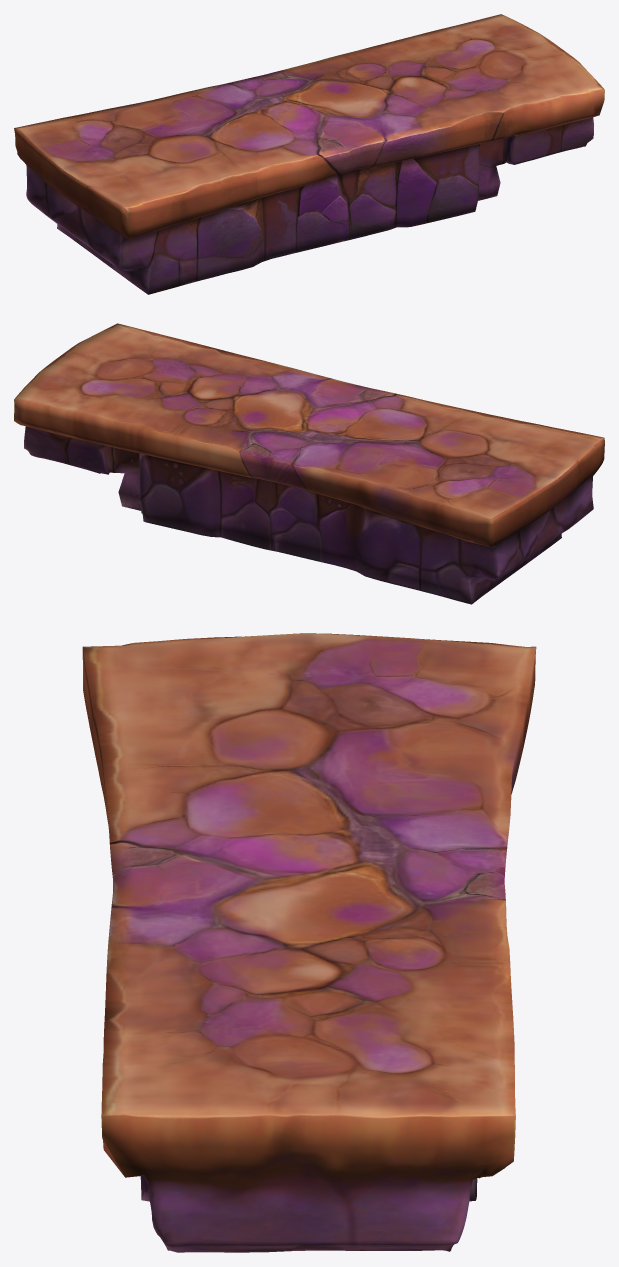
File: Mystic_Stone_Platform_A.fbx
3 views of the same model, one above another, from view 1: azimuth 30°, elevation 25°; view 2: azimuth 150°, elevation 25°; view 3: azimuth 270°, elevation 25° (orthographic). The views are drawn at different scales.
Parts seen in each view (by area): view 1: input; view 2: input; view 3: input.
Part boxes in pixels (x1,y1,x2,y2): input: (14, 14, 604, 294); input: (14, 323, 604, 604); input: (82, 633, 536, 1252).
Bounding box in the file's own units: 200 × 39.74 × 78.6.
1 material, 1 textured.
